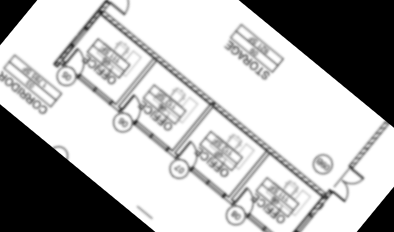door: (116, 90, 151, 126), (173, 137, 208, 172), (61, 45, 94, 79), (291, 210, 316, 232)
double door: (326, 162, 369, 206), (229, 183, 264, 218), (103, 0, 151, 18)
wall: (345, 119, 391, 172), (50, 39, 77, 70), (80, 4, 107, 33)
window: (97, 7, 332, 203)
